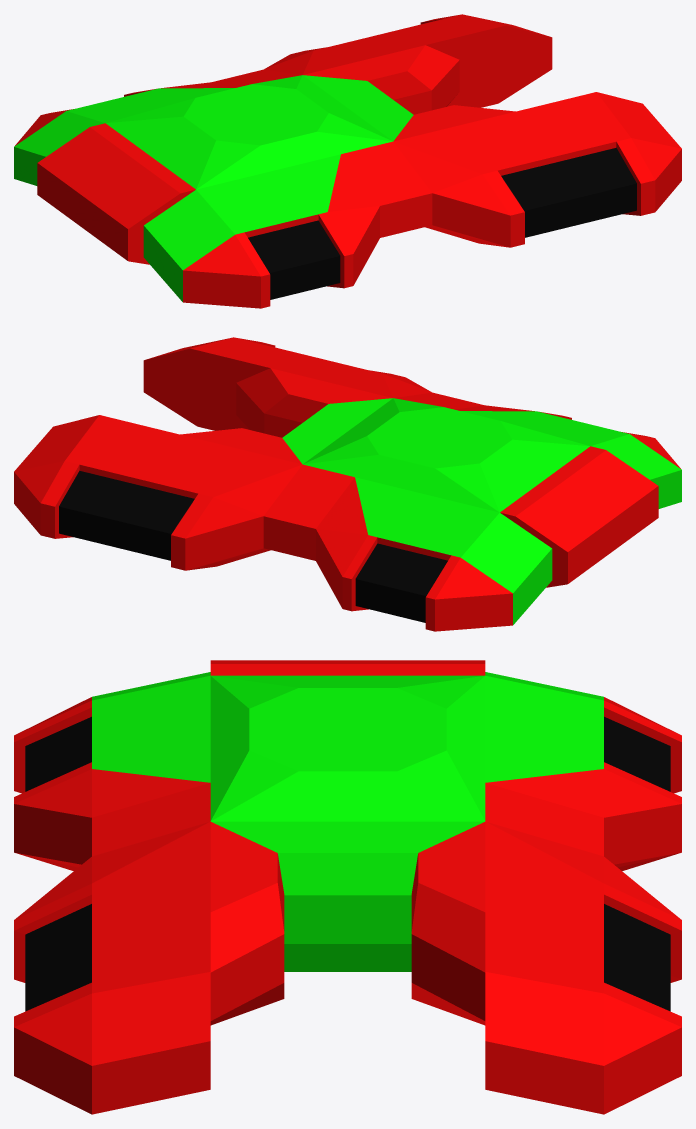
The model's file is TankChassis.fbx.
3 renders of one model, top to bottom at view 1: azimuth 30°, elevation 25°; view 2: azimuth 150°, elevation 25°; view 3: azimuth 270°, elevation 25°, orthographic. The views are drawn at different scales.
Parts seen in each view (by area): view 1: Plane; view 2: Plane; view 3: Plane.
Part boxes in pixels (left/top/right/bottom): Plane: left=14, top=14, right=681, bottom=308; Plane: left=14, top=337, right=681, bottom=631; Plane: left=14, top=660, right=681, bottom=1114.
Bounding box in the file's own units: 3283 × 662 × 2434.
